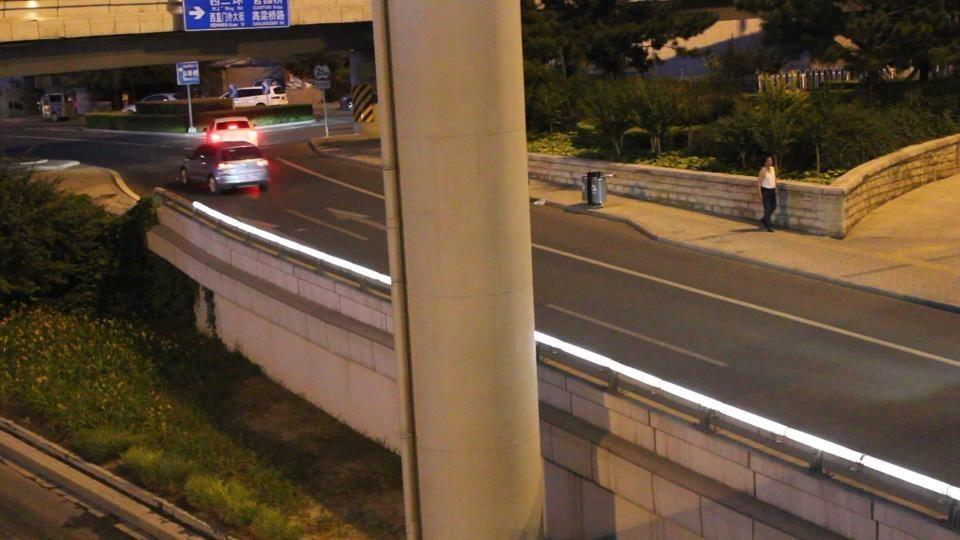car: (177, 141, 271, 196), (204, 115, 261, 147), (225, 82, 279, 109), (38, 92, 72, 122), (137, 92, 179, 106)
